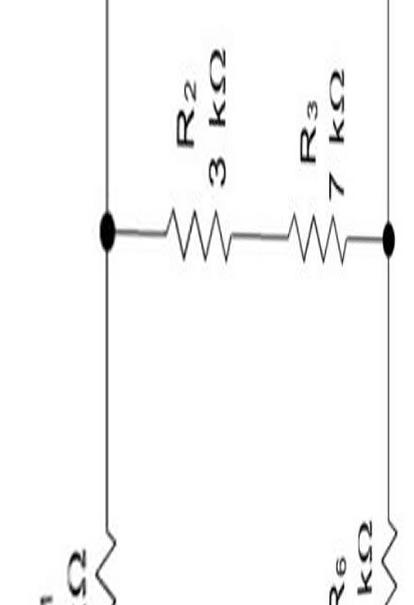resistor: (149, 193, 245, 266), (270, 196, 353, 275)
